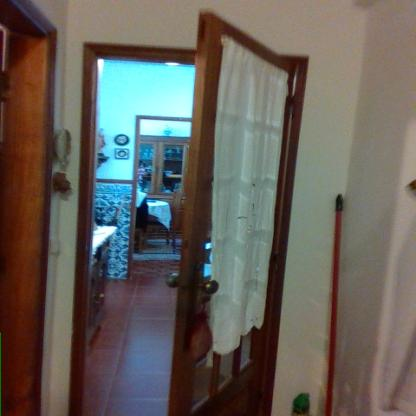semi: (67, 4, 315, 411)
